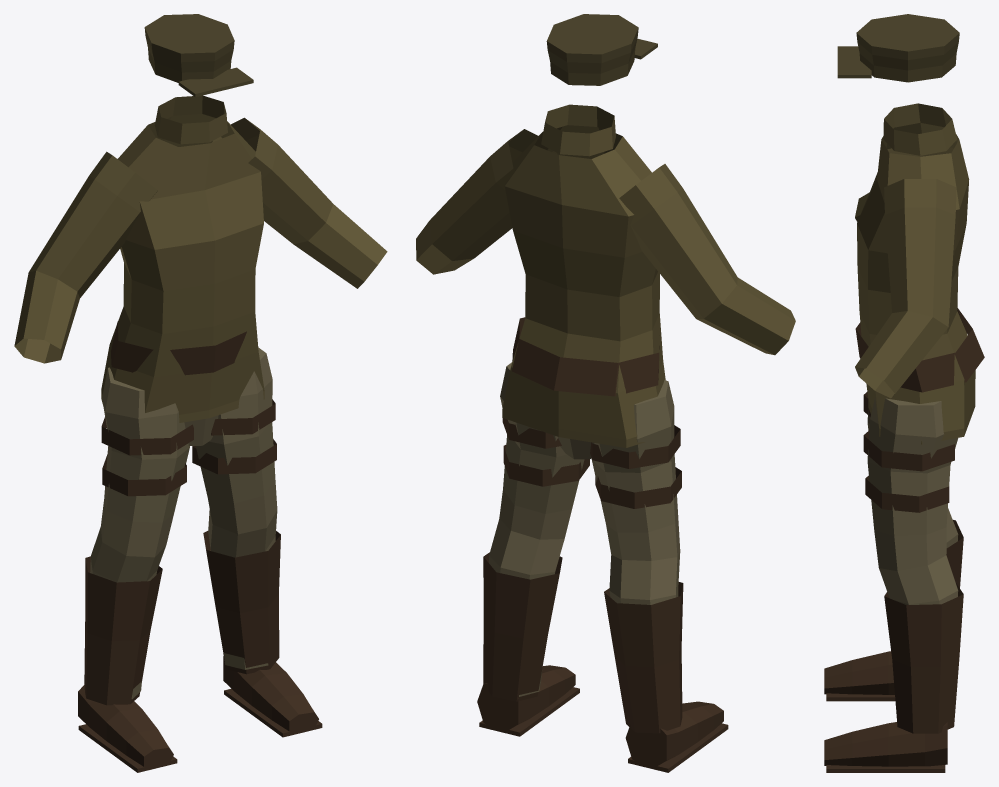
Rendered from tenue_corps_entrainement_lod1.glb.
3 views of the same model, side by side, from view 1: azimuth 30°, elevation 25°; view 2: azimuth 150°, elevation 25°; view 3: azimuth 270°, elevation 25° (orthographic). The views are drawn at different scales.
Parts seen in each view (by area): view 1: spine_02, thigh_r, calf_r, thigh_l, calf_l, upperarm_r, head, upperarm_l, foot_r, lowerarm_r, foot_l, pelvis (+2 smaller); view 2: spine_02, calf_r, calf_l, thigh_r, upperarm_r, thigh_l, pelvis, upperarm_l, head, lowerarm_r, foot_r, foot_l (+2 smaller); view 3: thigh_l, spine_02, calf_l, upperarm_l, head, foot_l, lowerarm_l, pelvis, foot_r, neck_01, calf_r.
Boxes of the visible parts, x1=… form: spine_02: x1=101, y1=114, x2=264, y2=414; thigh_r: x1=100, y1=367, x2=193, y2=557; calf_r: x1=84, y1=527, x2=165, y2=705; thigh_l: x1=192, y1=347, x2=277, y2=534; calf_l: x1=203, y1=509, x2=280, y2=674; upperarm_r: x1=29, y1=151, x2=157, y2=297; head: x1=144, y1=14, x2=253, y2=97; upperarm_l: x1=212, y1=117, x2=333, y2=244; foot_r: x1=78, y1=685, x2=177, y2=772; lowerarm_r: x1=14, y1=270, x2=79, y2=363; foot_l: x1=223, y1=656, x2=322, y2=737; pelvis: x1=101, y1=321, x2=264, y2=445; spine_02: x1=502, y1=125, x2=665, y2=439; calf_r: x1=604, y1=551, x2=683, y2=733; calf_l: x1=483, y1=519, x2=564, y2=701; thigh_r: x1=590, y1=380, x2=681, y2=560; upperarm_r: x1=619, y1=164, x2=737, y2=318; thigh_l: x1=499, y1=362, x2=589, y2=539; pelvis: x1=502, y1=317, x2=659, y2=459; upperarm_l: x1=429, y1=129, x2=556, y2=260; head: x1=546, y1=14, x2=657, y2=85; lowerarm_r: x1=697, y1=277, x2=795, y2=355; foot_r: x1=625, y1=701, x2=728, y2=772; foot_l: x1=477, y1=665, x2=579, y2=736; thigh_l: x1=863, y1=397, x2=958, y2=571; spine_02: x1=857, y1=123, x2=975, y2=431; calf_l: x1=879, y1=555, x2=963, y2=733; upperarm_l: x1=884, y1=179, x2=956, y2=326; head: x1=837, y1=14, x2=959, y2=82; foot_l: x1=824, y1=722, x2=947, y2=772; lowerarm_l: x1=855, y1=311, x2=948, y2=398; pelvis: x1=855, y1=308, x2=984, y2=444; foot_r: x1=824, y1=651, x2=895, y2=701; neck_01: x1=883, y1=103, x2=956, y2=155; calf_r: x1=946, y1=508, x2=963, y2=587.
Size of the model in its own units: 0.9484 by 1.69 by 0.354.
